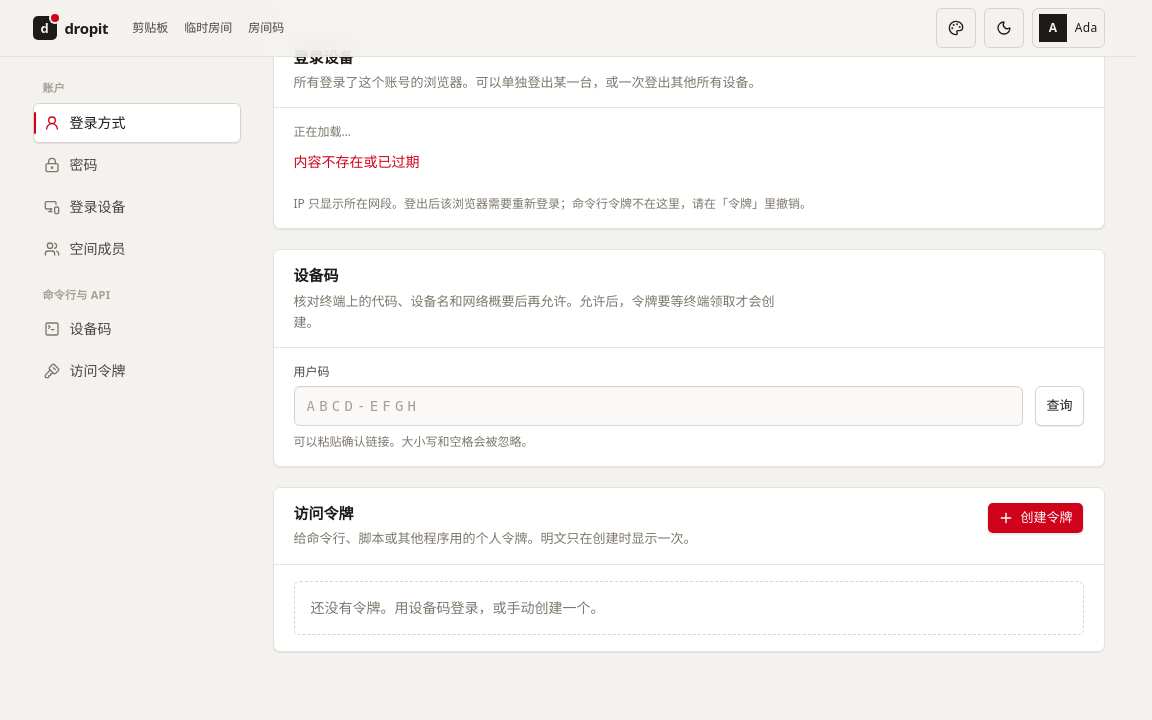
Test: settings and device confirmation › denies a device from the settings page
This screenshot has width=1152, height=720.
(page scrolled)
Type "https://dropit.example/device?user_code=abcd-efgh&verification_id=vid-9" into the field labelled "用户码".
click(658, 406); type("https://dropit.example/device?user_code=abcd-efgh&verification_id=vid-9")  # box x1=294 y1=386 x2=1024 y2=426
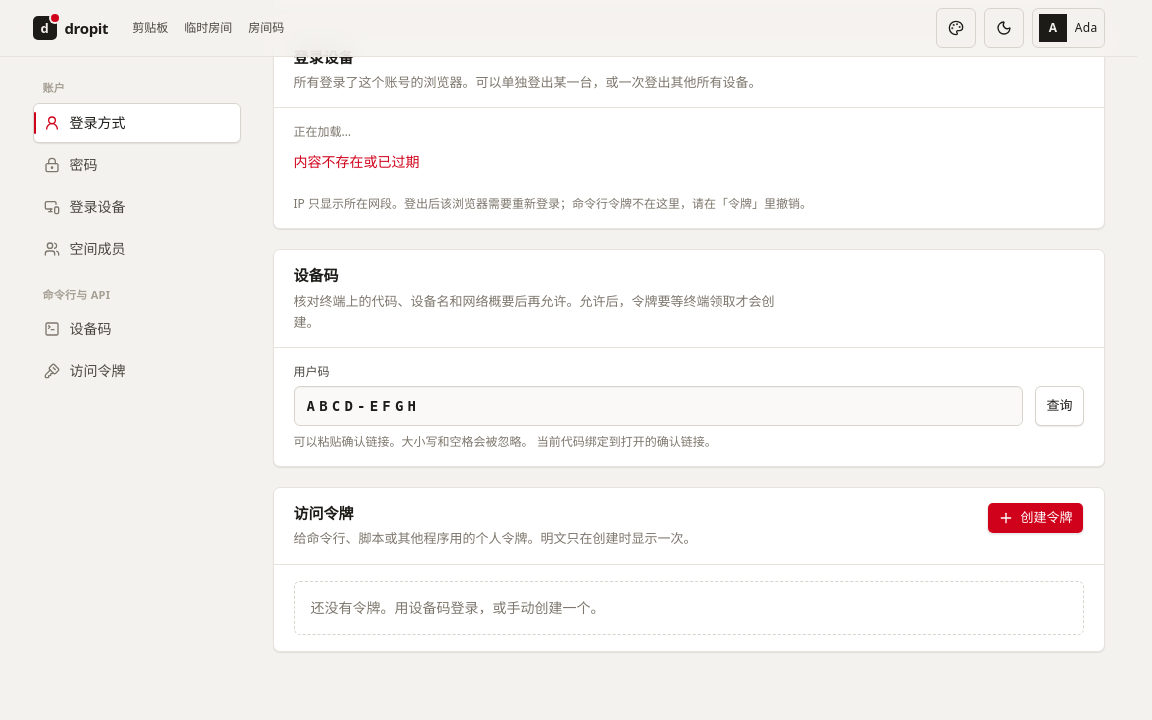
Click the button "查询".
click(1060, 406)  # box x1=1036 y1=386 x2=1084 y2=426
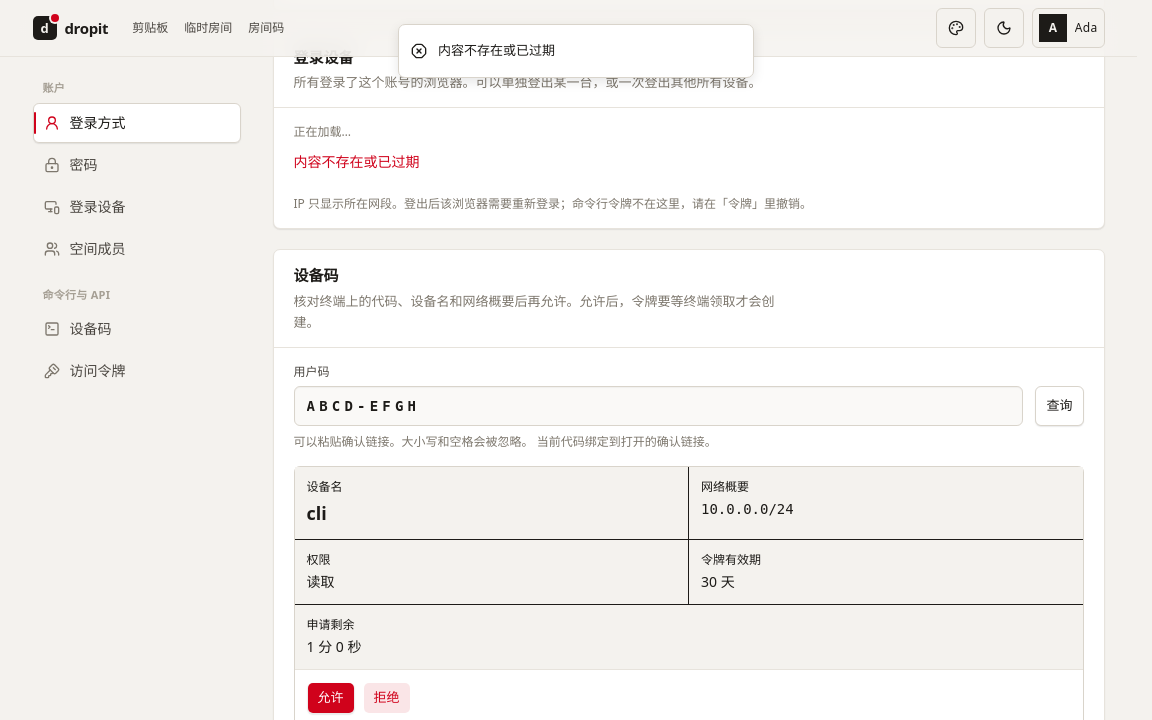
expect the text "cli" is shown: met, box x1=306 y1=501 x2=327 y2=525
Click the button "拒绝".
click(386, 698)  # box x1=362 y1=682 x2=410 y2=714
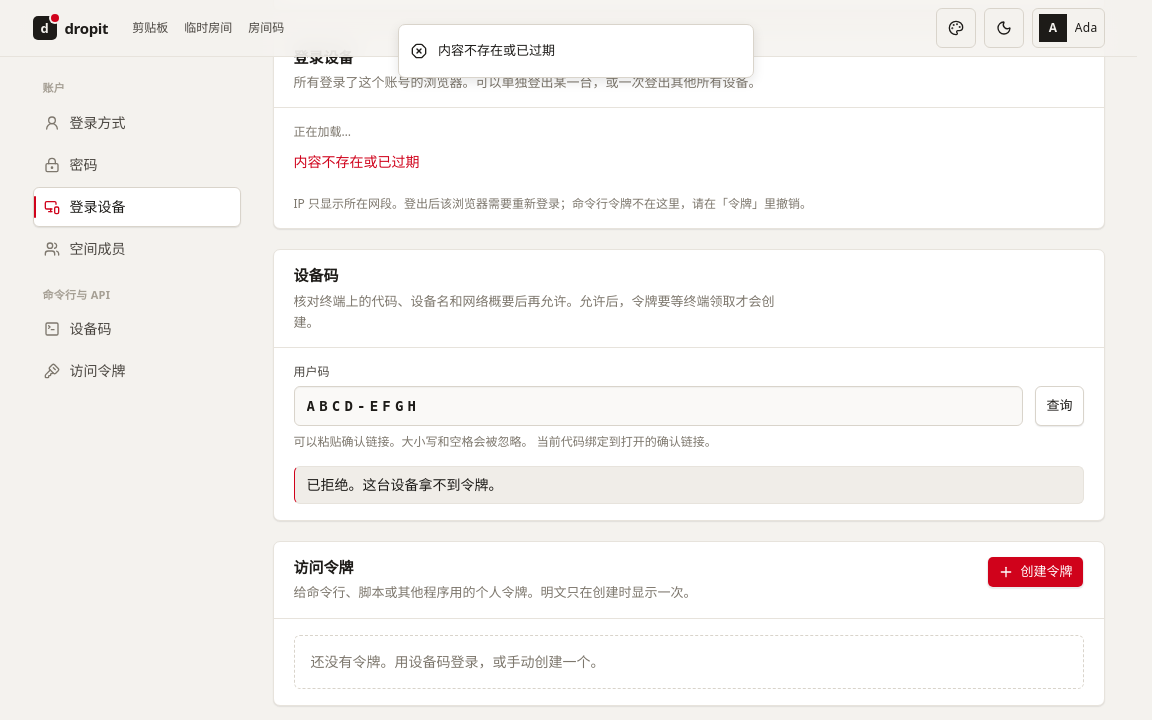
expect the text "已拒绝。这台设备拿不到令牌。" is shown: met, box x1=294 y1=466 x2=1084 y2=504
